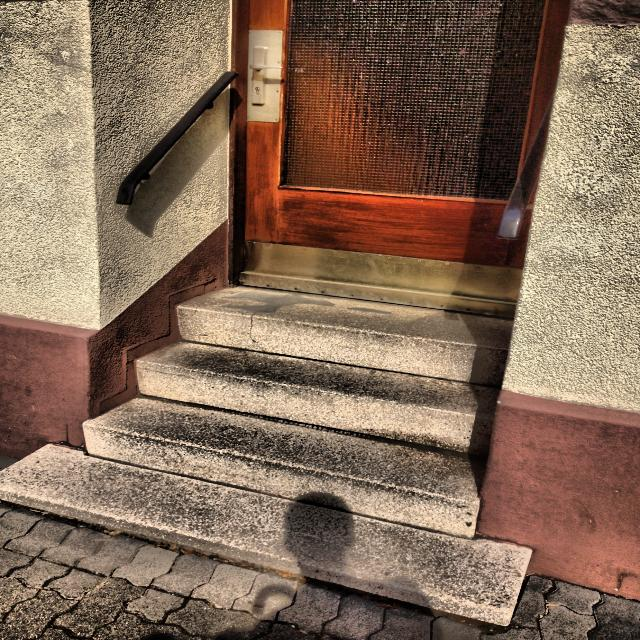escada: (82, 293, 507, 627)
